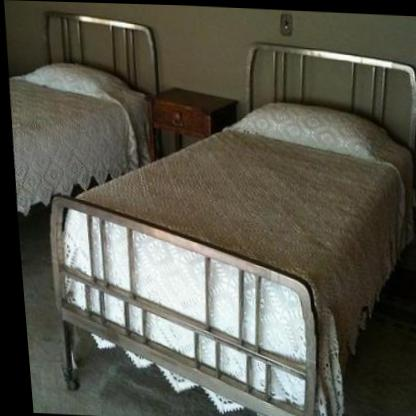Bed: (19, 22, 416, 416), (0, 0, 169, 281)
